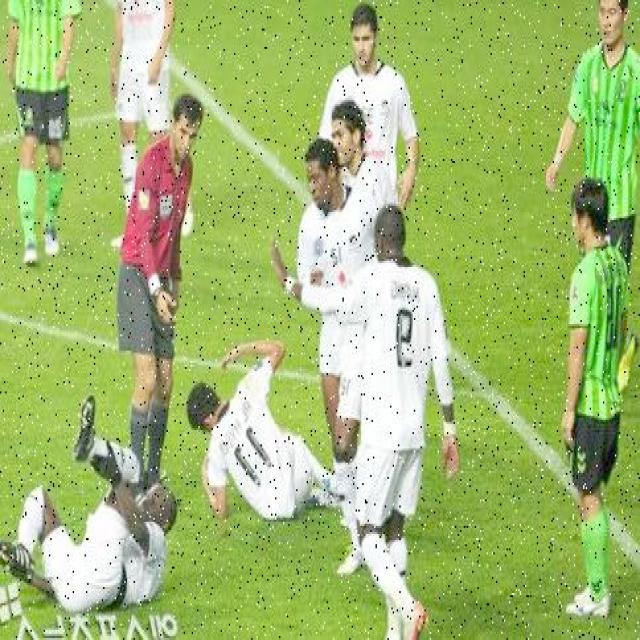fall: (189, 334, 332, 524), (9, 436, 173, 601)
